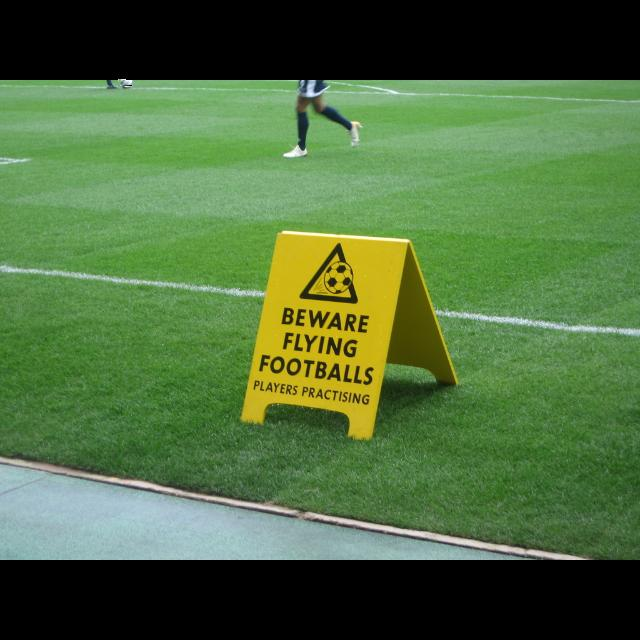Football: (118, 80, 132, 86)
